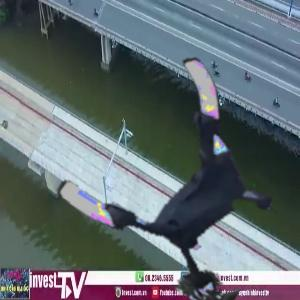drone: (83, 69, 296, 282)
